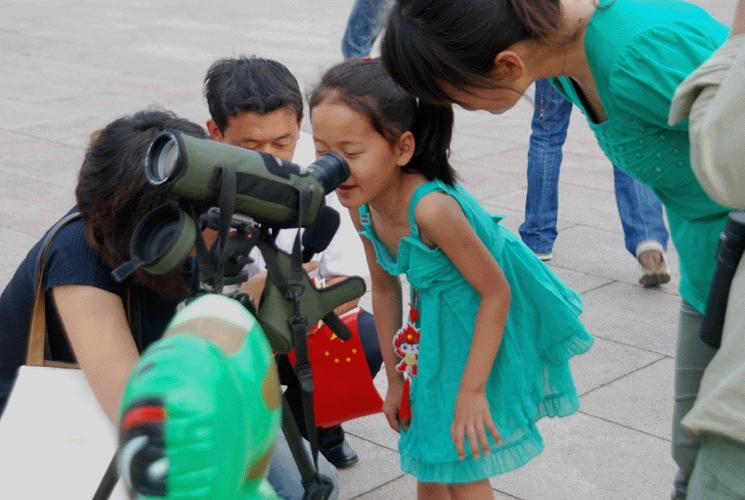person: (310, 59, 592, 500)
